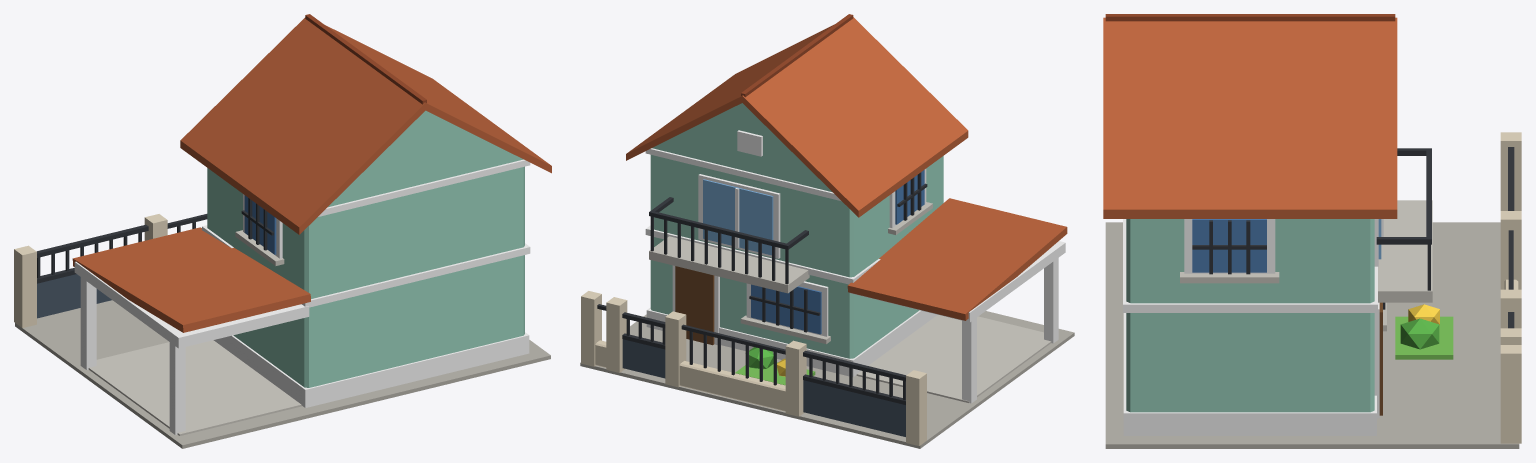
The model's file is casa_sobrado.glb.
3 views of the same model, side by side, from view 1: azimuth 30°, elevation 25°; view 2: azimuth 150°, elevation 25°; view 3: azimuth 270°, elevation 25° (orthographic). The views are drawn at different scales.
Parts seen in each view (by area): view 1: corpo; view 2: corpo; view 3: corpo.
Boxes of the visible parts, x1,y1,x2,y2 form: corpo: (14, 14, 551, 448); corpo: (580, 14, 1074, 448); corpo: (1103, 14, 1521, 448).
Bounding box in the file's own units: 1.27 × 0.953 × 1.01.
